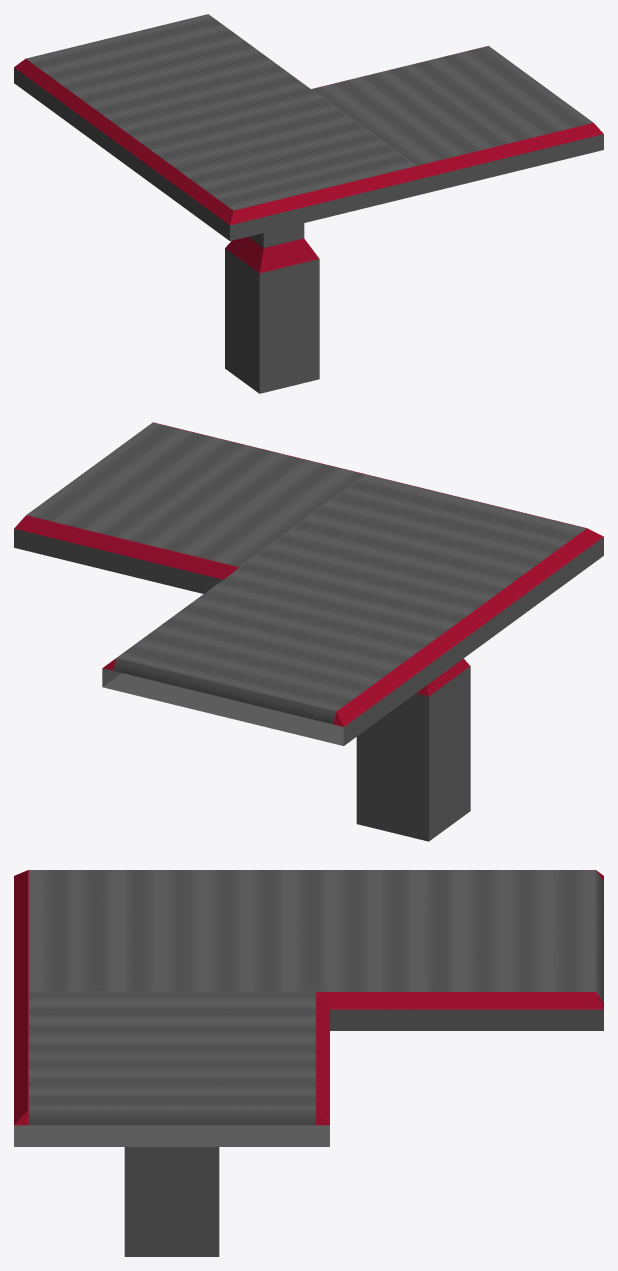
File: assemblyline1.fbx
3 renders of one model, top to bottom at view 1: azimuth 30°, elevation 25°; view 2: azimuth 150°, elevation 25°; view 3: azimuth 270°, elevation 25°, orthographic. The views are drawn at different scales.
Parts seen in each view (by area): view 1: assembly_line1; view 2: assembly_line1; view 3: assembly_line1.
Part boxes in pixels (left/top/right/bottom): assembly_line1: left=14, top=14, right=603, bottom=393; assembly_line1: left=14, top=422, right=603, bottom=841; assembly_line1: left=14, top=870, right=603, bottom=1256.
Size of the model in its own units: 3.37 by 1.93 by 3.37.
